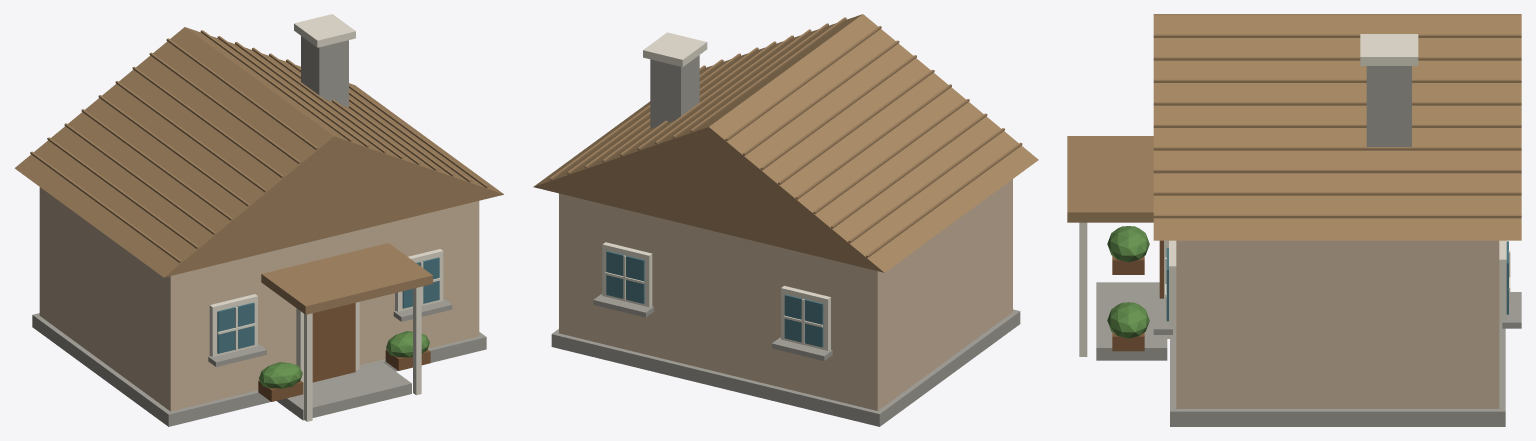
Rendered from cottage-2.glb.
The picture shows the model from 3 angles, left to right: view 1: azimuth 30°, elevation 25°; view 2: azimuth 150°, elevation 25°; view 3: azimuth 270°, elevation 25°; orthographic projection. The views are drawn at different scales.
Visible parts, largest first — view 1: cottage-2; view 2: cottage-2; view 3: cottage-2.
Boxes of the visible parts, x1,y1,x2,y2 form: cottage-2: [14, 14, 503, 426]; cottage-2: [533, 14, 1038, 426]; cottage-2: [1067, 14, 1521, 426].
Bounding box in the file's own units: 7.5 × 5.78 × 7.04.
